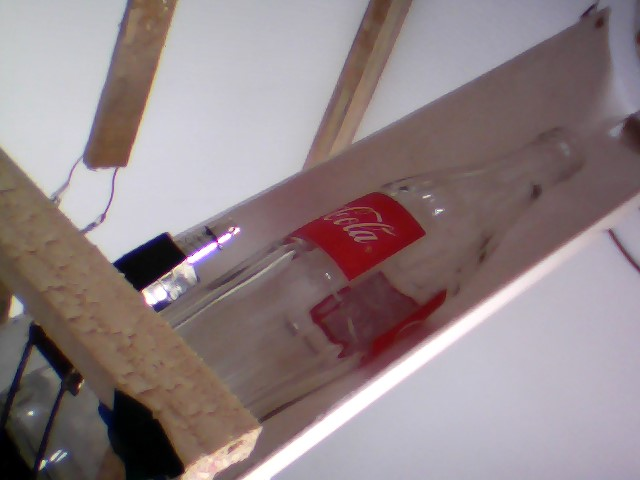vidrio: (170, 121, 596, 428)
